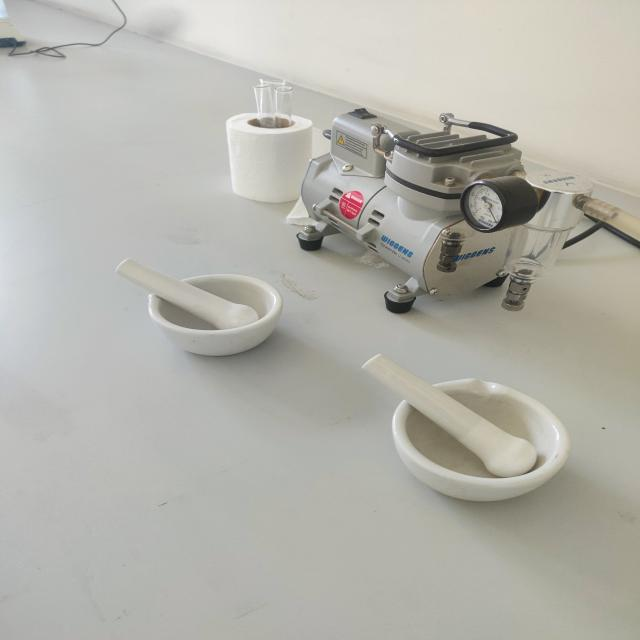Porcelain_Mortar Pestle: (331, 309, 603, 532), (88, 224, 307, 370)
